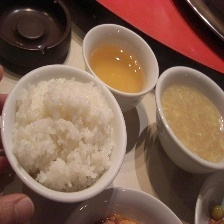rice: (12, 77, 114, 192)
